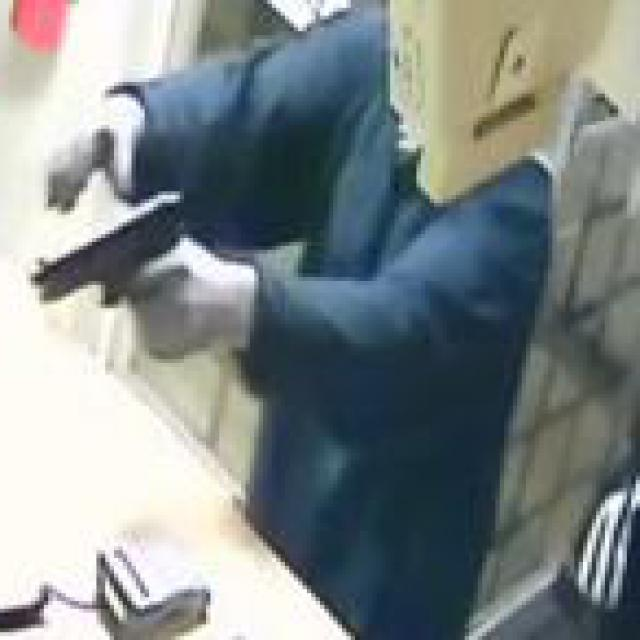Gun: (30, 184, 206, 362)
